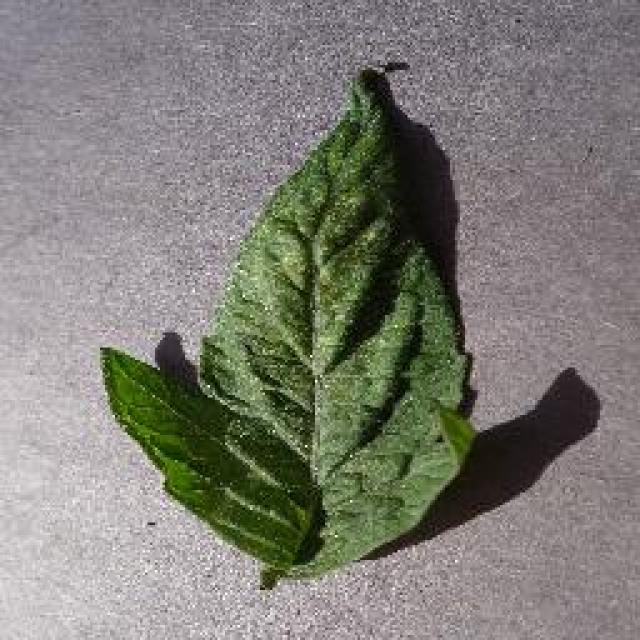Tomato___Spider_mites Two-spotted_spider_mite: (100, 70, 472, 582)
